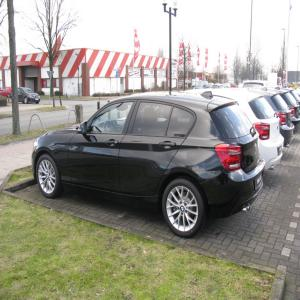Vehicle-registration-plate: (255, 175, 264, 191)
